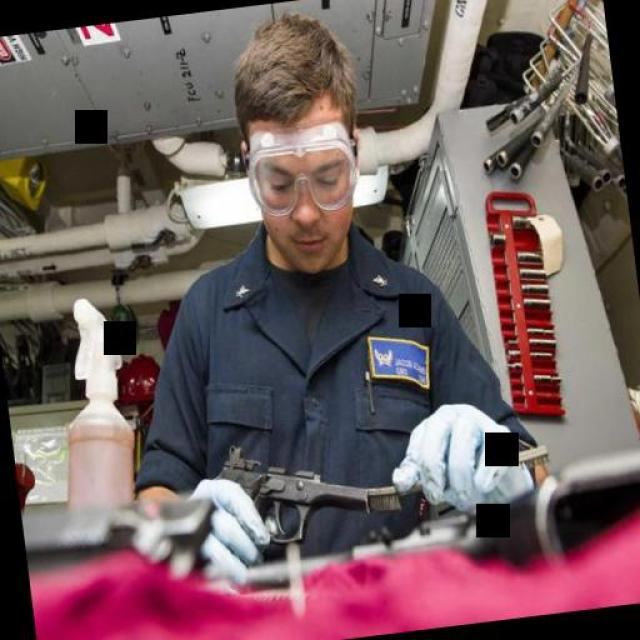gun: (205, 424, 377, 564)
